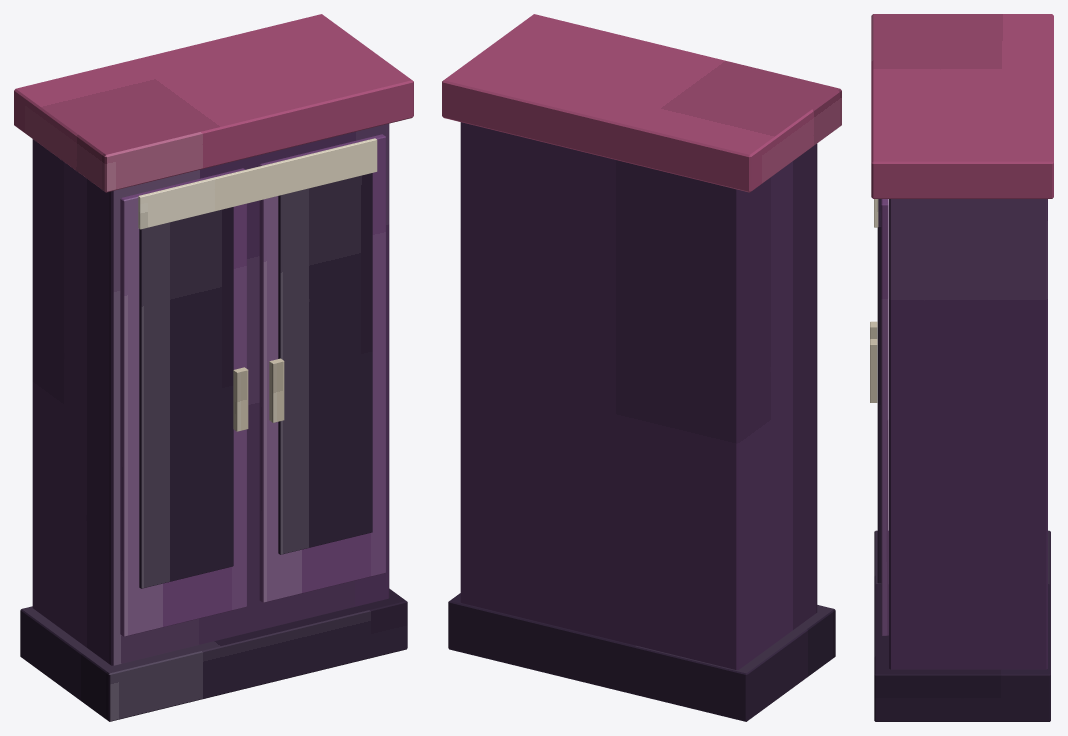
The model's file is bedroom_wardrobe_violet.glb.
3 views of the same model, side by side, from view 1: azimuth 30°, elevation 25°; view 2: azimuth 150°, elevation 25°; view 3: azimuth 270°, elevation 25° (orthographic).
Visible parts, largest first — view 1: WardrobeBody, WardrobeCrown, WardrobeInset_1, WardrobeInset_2, WardrobePlinth, WardrobeDoor_1, WardrobeDoor_2, WardrobeCarvedBand, WardrobeHandle_1, WardrobeHandle_2; view 2: WardrobeBody, WardrobeCrown, WardrobePlinth; view 3: WardrobeBody, WardrobeCrown, WardrobePlinth, WardrobeDoor_2, WardrobeInset_2, WardrobeHandle_2.
Boxes of the visible parts, box(x1,y1,x2,y2) form: WardrobeBody: box(32, 123, 389, 665); WardrobeCrown: box(14, 14, 413, 192); WardrobeInset_1: box(139, 207, 233, 588); WardrobeInset_2: box(278, 173, 372, 554); WardrobePlinth: box(20, 588, 407, 721); WardrobeDoor_1: box(120, 168, 246, 636); WardrobeDoor_2: box(259, 134, 385, 602); WardrobeCarvedBand: box(138, 138, 377, 229); WardrobeHandle_1: box(233, 367, 248, 431); WardrobeHandle_2: box(269, 358, 284, 422); WardrobeBody: box(460, 122, 817, 669); WardrobeCrown: box(442, 14, 841, 192); WardrobePlinth: box(448, 593, 835, 721); WardrobeBody: box(889, 199, 1047, 669); WardrobeCrown: box(871, 14, 1053, 198); WardrobePlinth: box(874, 530, 1050, 721); WardrobeDoor_2: box(881, 199, 888, 635); WardrobeInset_2: box(877, 199, 881, 583); WardrobeHandle_2: box(870, 339, 877, 402).
Bounding box in the file's own units: 1.2 × 2.11 × 0.6245.
1 material, 1 textured.
